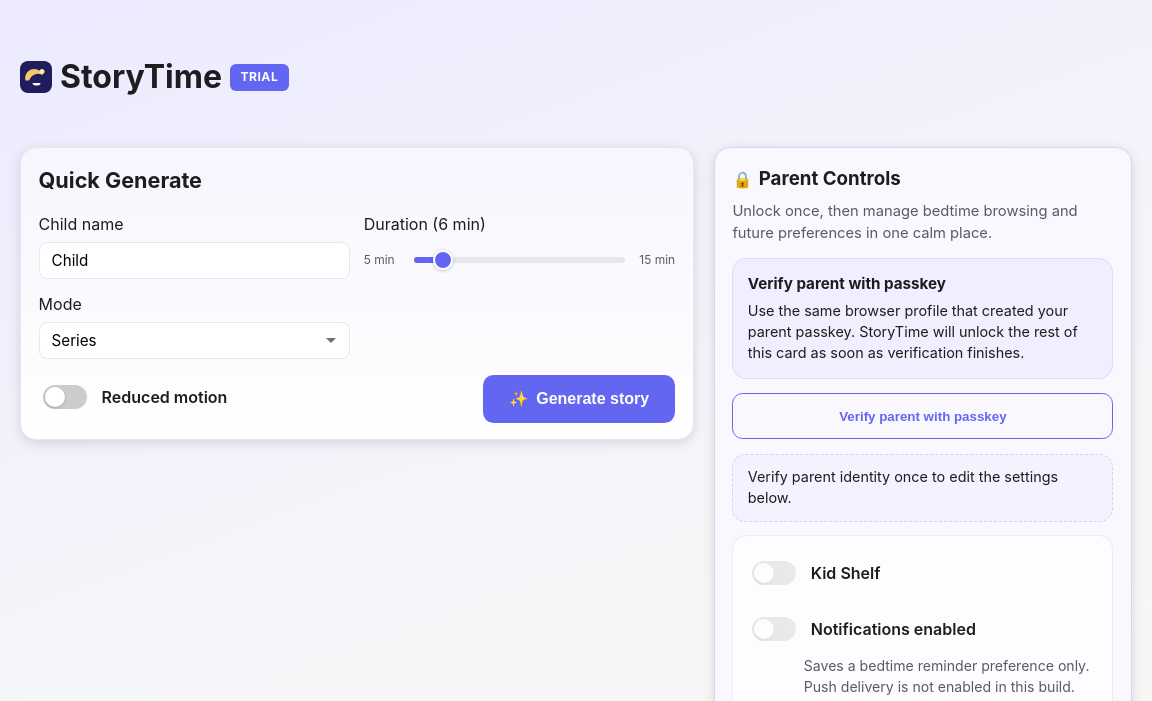
Test: App › shows focus-specific recovery guidance for passkey failures on localhost
The width and height of the screenshot is (1152, 701).
Step 1. Click the button "Verify parent with passkey" → [923, 416], box [732,393,1113,440]
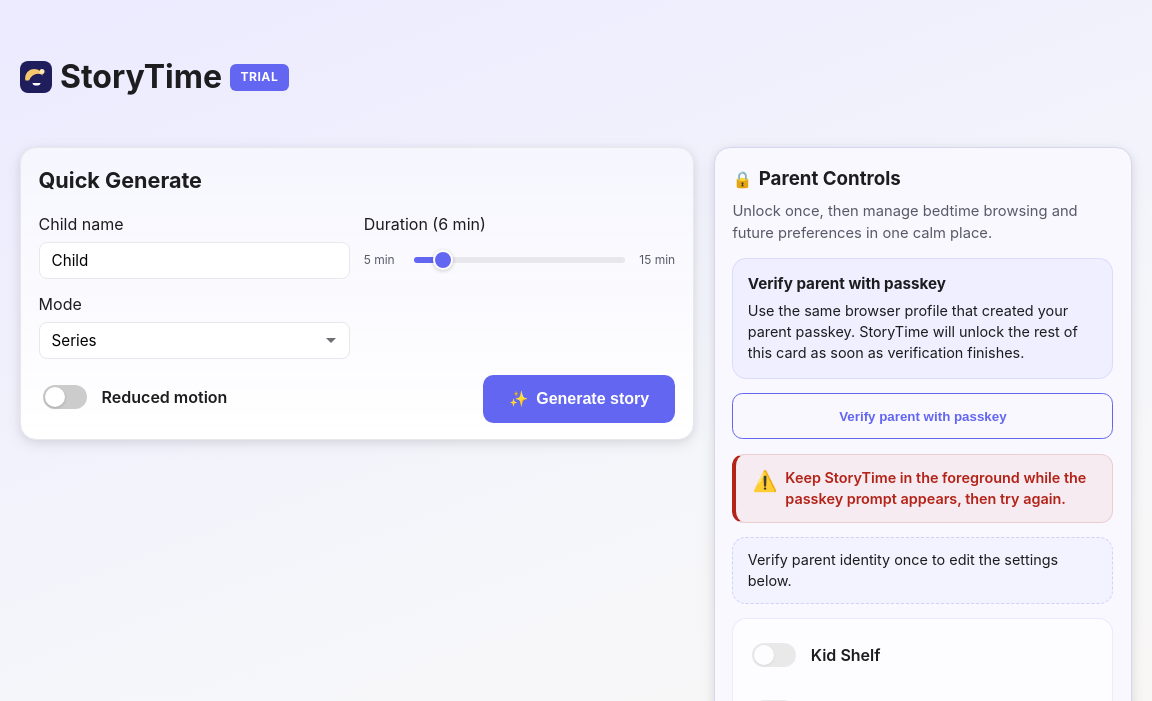
Expected: the text "Keep StoryTime in the foreground while the passkey prompt appears, then try again." is shown, [785,469,1086,508]
